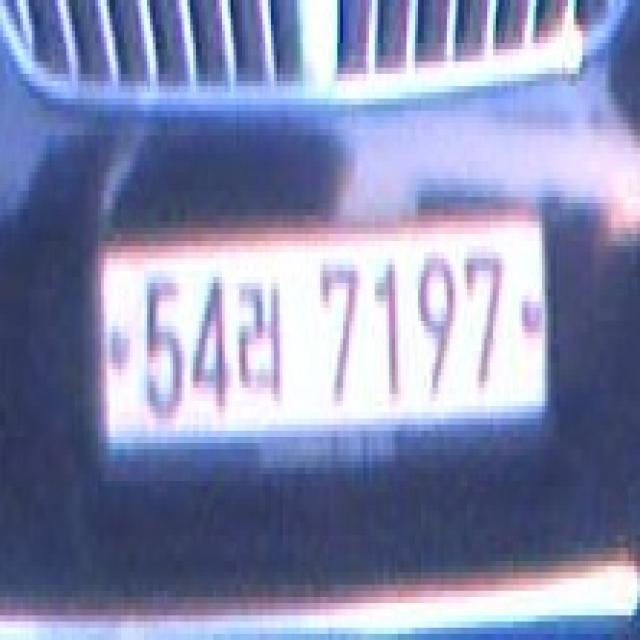1: (369, 252, 412, 400)
5: (142, 246, 188, 412), (190, 258, 237, 418)
7: (314, 246, 375, 412), (467, 215, 516, 394)
9: (415, 228, 467, 406)
leo: (236, 271, 288, 400)
license_plate: (98, 191, 554, 480)
